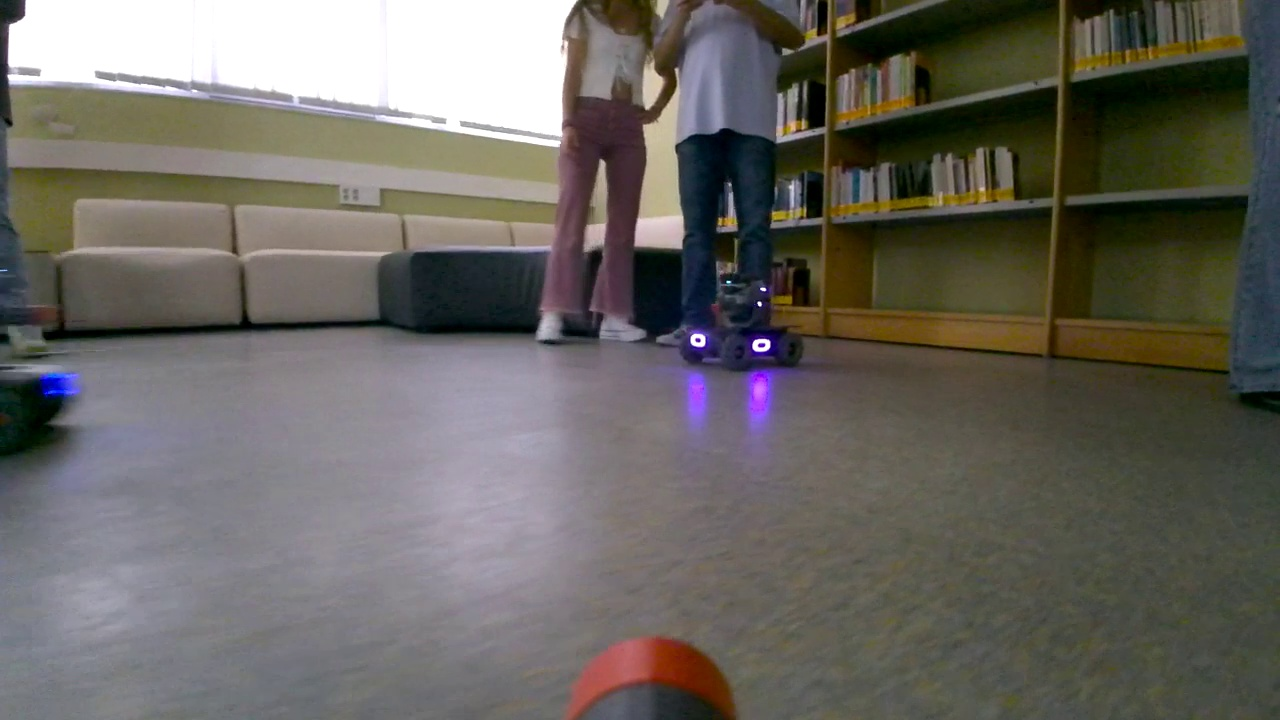robot: (677, 269, 805, 374)
